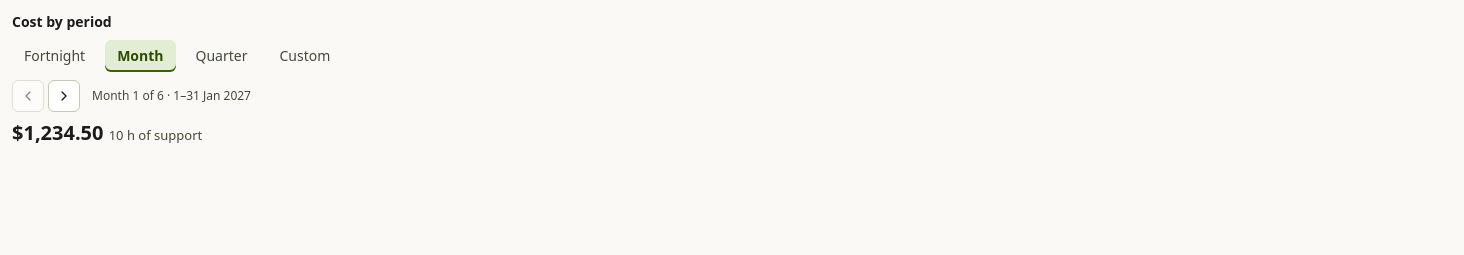
Test case: Cost by period: Custom › opens on the dates last shown, clamps a wider range to the agreement and says so
The image size is (1464, 255).
Check: the text "$1,234.50" is shown, box [12,119,104,146]
Click the radio button labelled "Custom" at (305, 56), box [268,40,342,72]
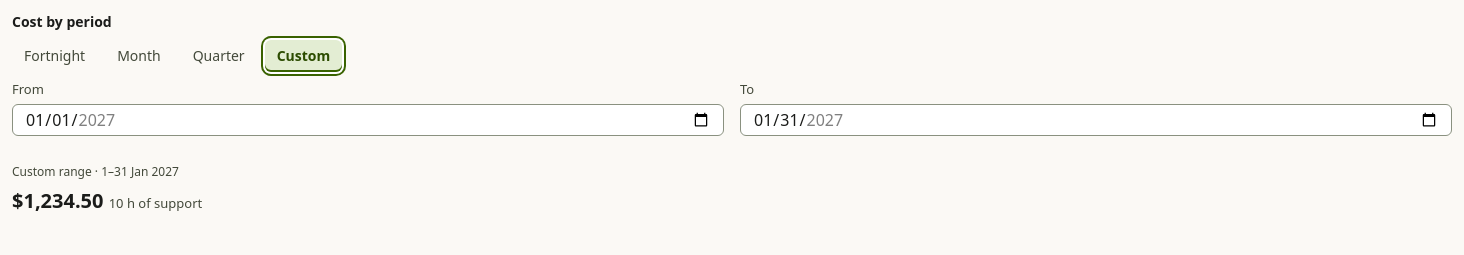
Check: the date field labelled "From" holds "2027-01-01"
Check: the date field labelled "To" holds "2027-01-31", box [740,104,1452,136]
Type "2026-12-01" into the date field labelled "From" at (368, 120), box [12,104,724,136]
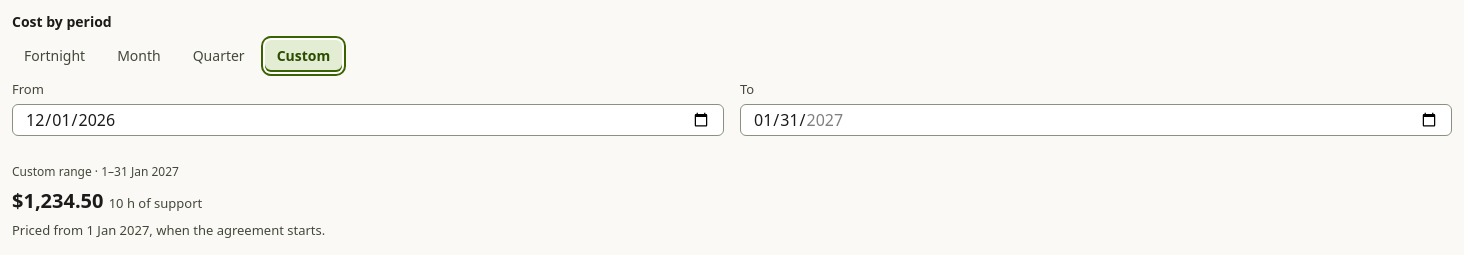
Type "2027-08-01" into the date field labelled "To" at (1096, 120), box [740,104,1452,136]
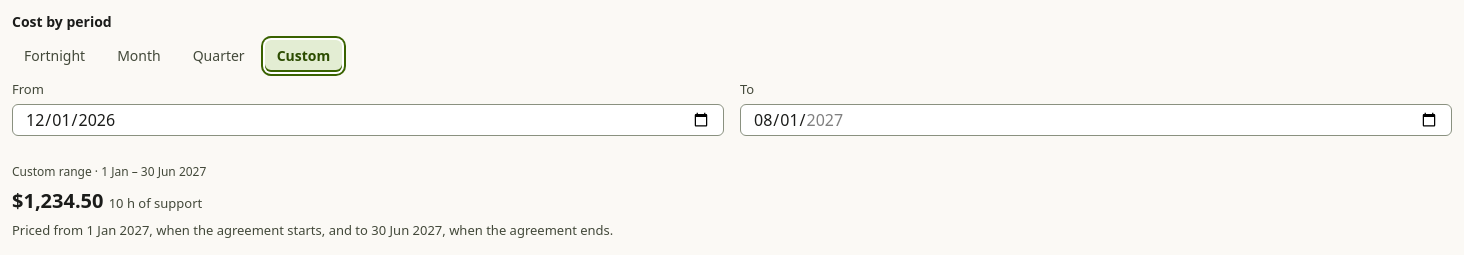
Check: the text "Priced from 1 Jan 2027, when the agreement starts, and to 30 Jun 2027, when the agreement ends." is shown, box [12,220,613,238]
